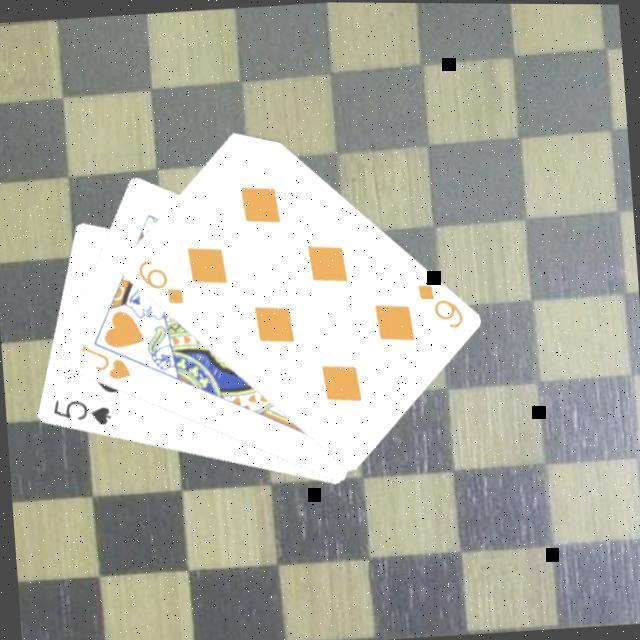5S: (47, 394, 113, 432)
6D: (412, 277, 466, 333), (132, 255, 186, 310)
JH: (75, 338, 133, 386)
